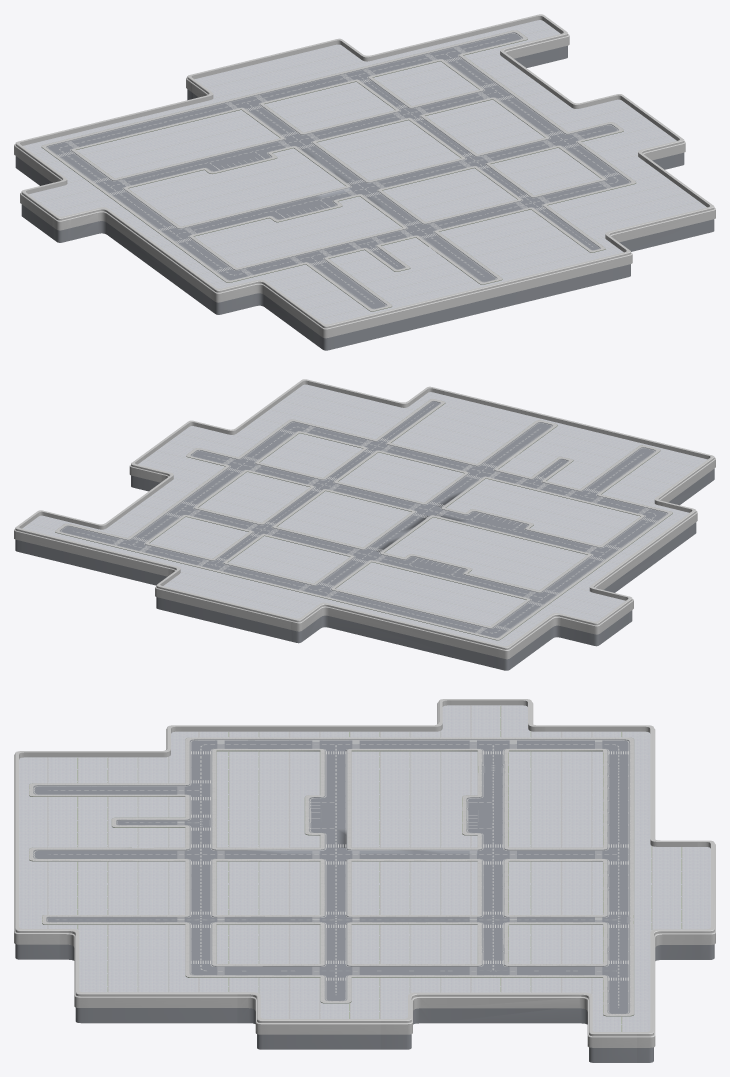
File: jiujinshan_dibiao.fbx
3 views of the same model, one above another, from view 1: azimuth 30°, elevation 25°; view 2: azimuth 150°, elevation 25°; view 3: azimuth 270°, elevation 25° (orthographic). The views are drawn at different scales.
Parts seen in each view (by area): view 1: dimian000.001, Scene_MaLu01_12_mesh.001, huashengdun_dibiao.016; view 2: dimian000.001, Scene_MaLu01_12_mesh.001, huashengdun_dibiao.016; view 3: dimian000.001, Scene_MaLu01_12_mesh.001, huashengdun_dibiao.016.
Part boxes in pixels (left/top/right/bottom): dimian000.001: left=23, top=20, right=706, bottom=324; Scene_MaLu01_12_mesh.001: left=41, top=30, right=636, bottom=311; huashengdun_dibiao.016: left=14, top=14, right=715, bottom=350; dimian000.001: left=22, top=384, right=707, bottom=646; Scene_MaLu01_12_mesh.001: left=55, top=399, right=672, bottom=640; huashengdun_dibiao.016: left=14, top=379, right=715, bottom=670; dimian000.001: left=19, top=705, right=710, bottom=1031; Scene_MaLu01_12_mesh.001: left=29, top=737, right=634, bottom=1016; huashengdun_dibiao.016: left=14, top=699, right=715, bottom=1062.
Size of the model in its own units: 25055 by 1015 by 22120.
